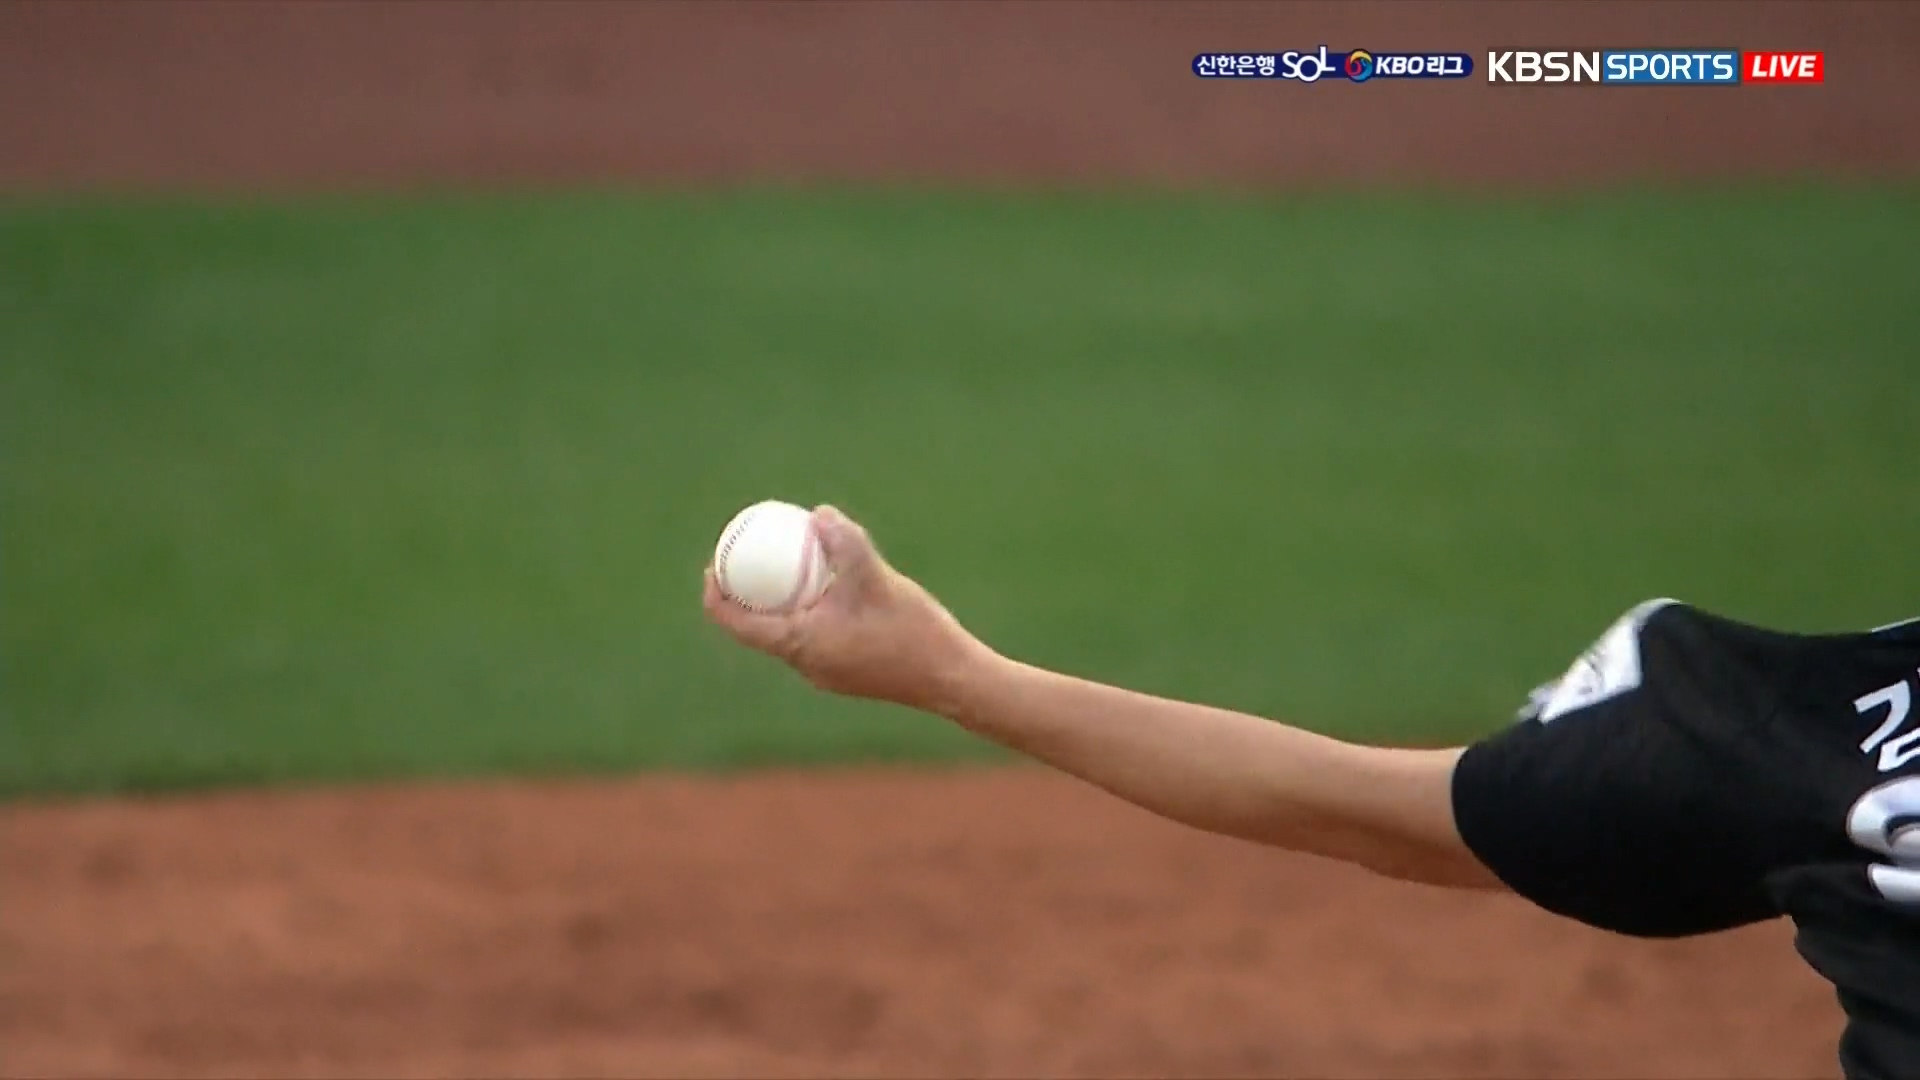zoomin_hand: (690, 479, 1432, 906)
